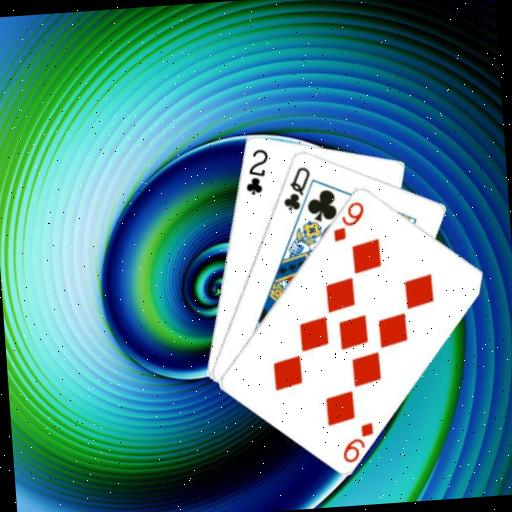2C: (240, 145, 272, 197)
9D: (328, 198, 368, 244), (337, 419, 377, 465)
QC: (278, 162, 315, 213)
